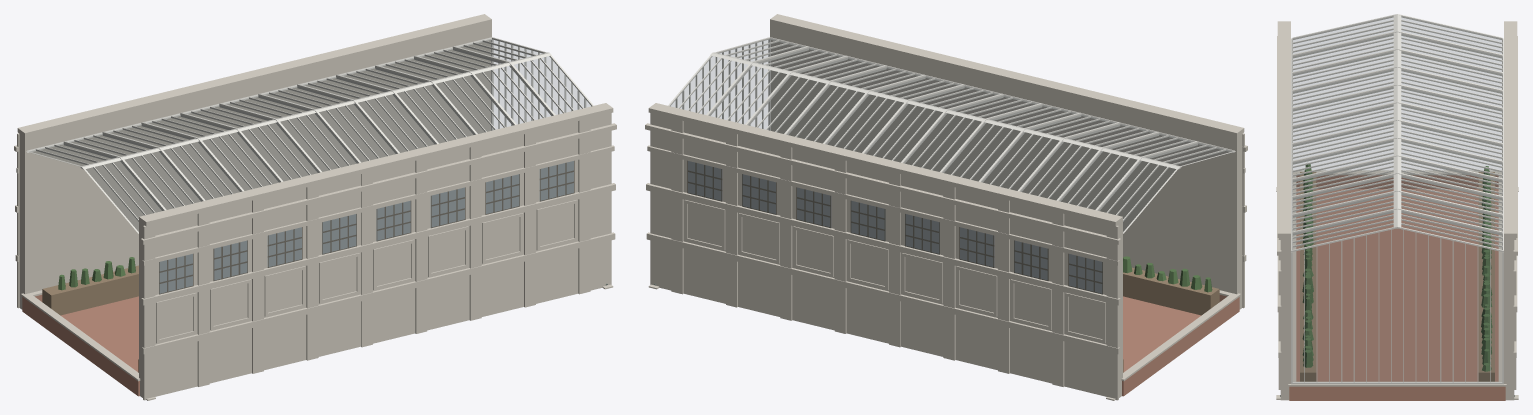
File: pullman_glasshouse_1800_calumet_east__as_standing_1904.glb
The picture shows the model from 3 angles, left to right: view 1: azimuth 30°, elevation 25°; view 2: azimuth 150°, elevation 25°; view 3: azimuth 270°, elevation 25°; orthographic projection. The views are drawn at different scales.
Parts seen in each view (by area): view 1: pullman_glasshouse_1800_calumet_east__as_standing_1904; view 2: pullman_glasshouse_1800_calumet_east__as_standing_1904; view 3: pullman_glasshouse_1800_calumet_east__as_standing_1904.
Boxes of the visible parts, box(x1,y1,x2,y2) form: pullman_glasshouse_1800_calumet_east__as_standing_1904: box(14, 14, 616, 400); pullman_glasshouse_1800_calumet_east__as_standing_1904: box(645, 14, 1247, 400); pullman_glasshouse_1800_calumet_east__as_standing_1904: box(1276, 14, 1518, 400).
Size of the model in its own units: 17.08 by 6.44 by 8.12.
